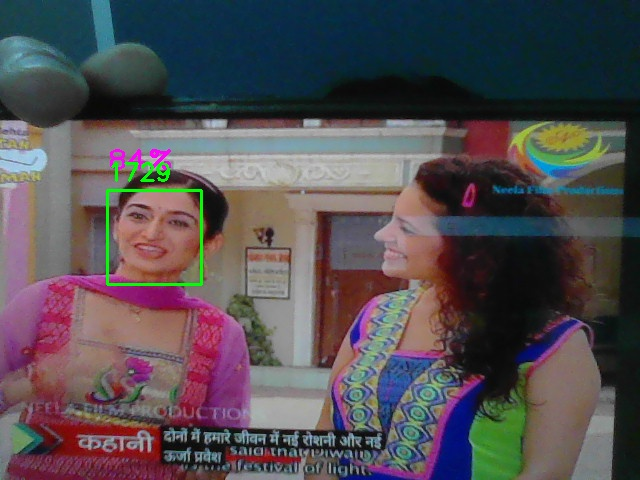fake: (107, 190, 202, 285)
